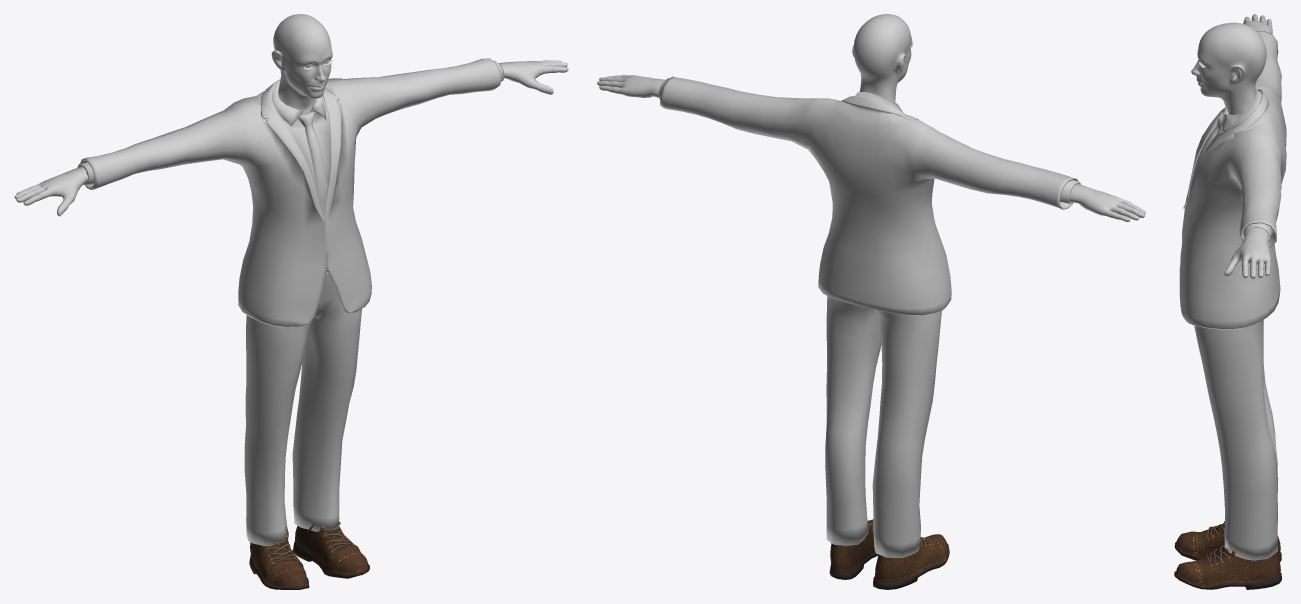
File: MaleModel1.obj
3 views of the same model, side by side, from view 1: azimuth 30°, elevation 25°; view 2: azimuth 150°, elevation 25°; view 3: azimuth 270°, elevation 25° (orthographic).
Visible parts, largest first — view 1: Tops, Bottoms, Body, Shoes; view 2: Tops, Bottoms, Body, Shoes; view 3: Tops, Bottoms, Body, Shoes.
Part boxes in pixels (box(x1,y1,x2,y2)): Tops: box(77, 58, 504, 326); Bottoms: box(244, 261, 361, 546); Body: box(14, 14, 568, 216); Shoes: box(249, 521, 369, 589); Tops: box(658, 76, 1080, 315); Bottoms: box(825, 296, 941, 557); Body: box(597, 14, 1145, 222); Shoes: box(829, 519, 949, 589); Tops: box(1179, 31, 1286, 329); Bottoms: box(1194, 319, 1277, 560); Body: box(1191, 14, 1272, 278); Shoes: box(1174, 521, 1281, 589).
Size of the model in its own units: 187 by 180 by 33.51.
